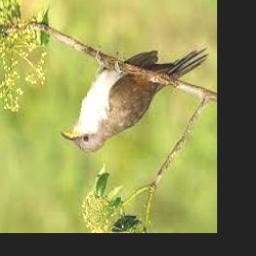Cuckoo: (60, 51, 209, 154)
